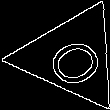O_NE: (34, 25, 108, 89)
